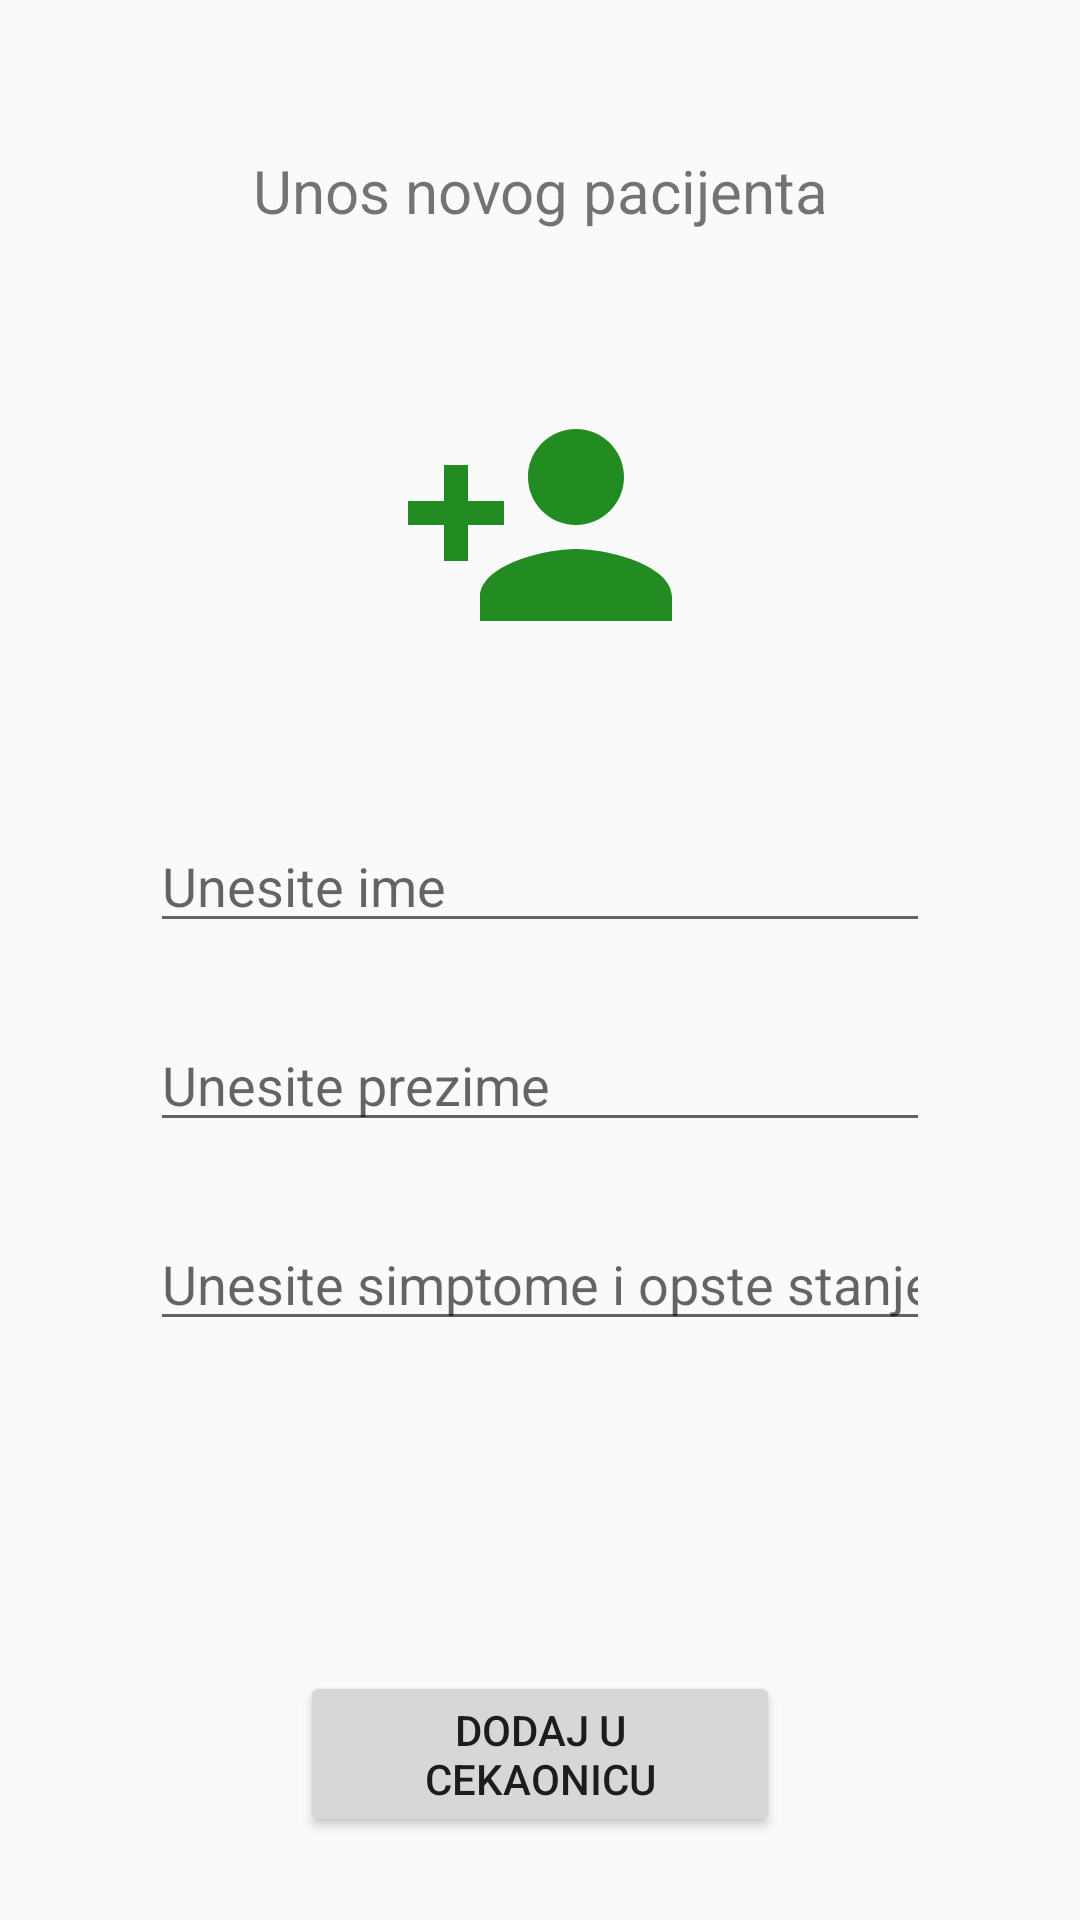

Icon click points for this 1080 × 1920 phone screenshot, format (x=x, y=y):
add patient: (x=540, y=525)
